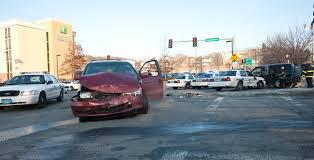bonnet-dent: (81, 69, 134, 91)
front-bumper-dent: (87, 98, 131, 114)
